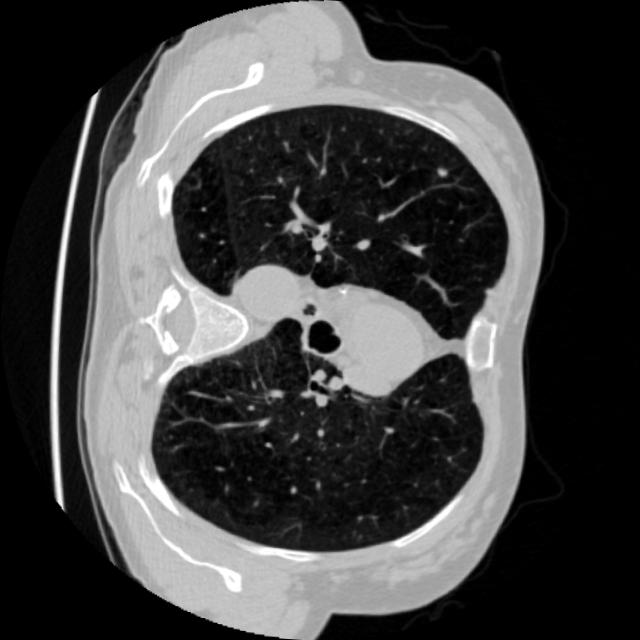nodule: (426, 158, 456, 188)
